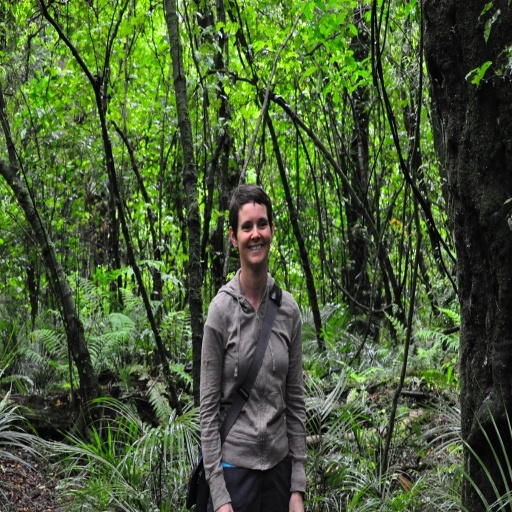hand: (287, 493, 304, 510), (215, 501, 233, 510)
